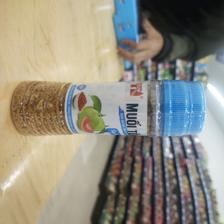TayNinh_blue: (10, 79, 205, 135)
